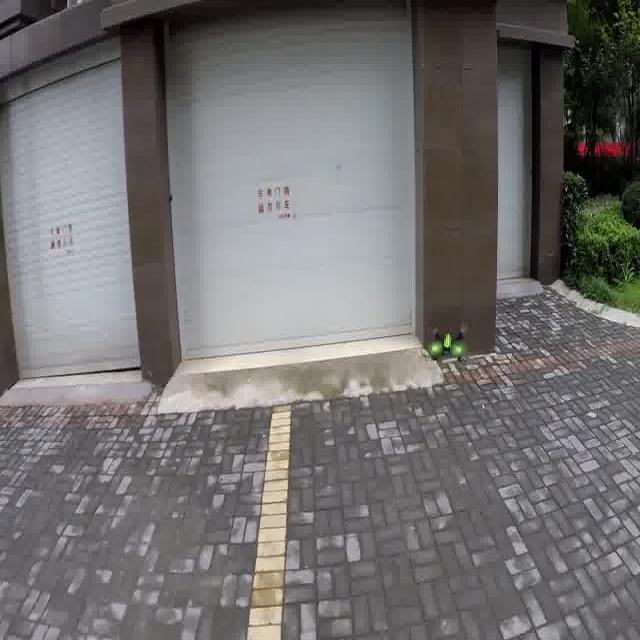drone: (420, 312, 472, 366)
